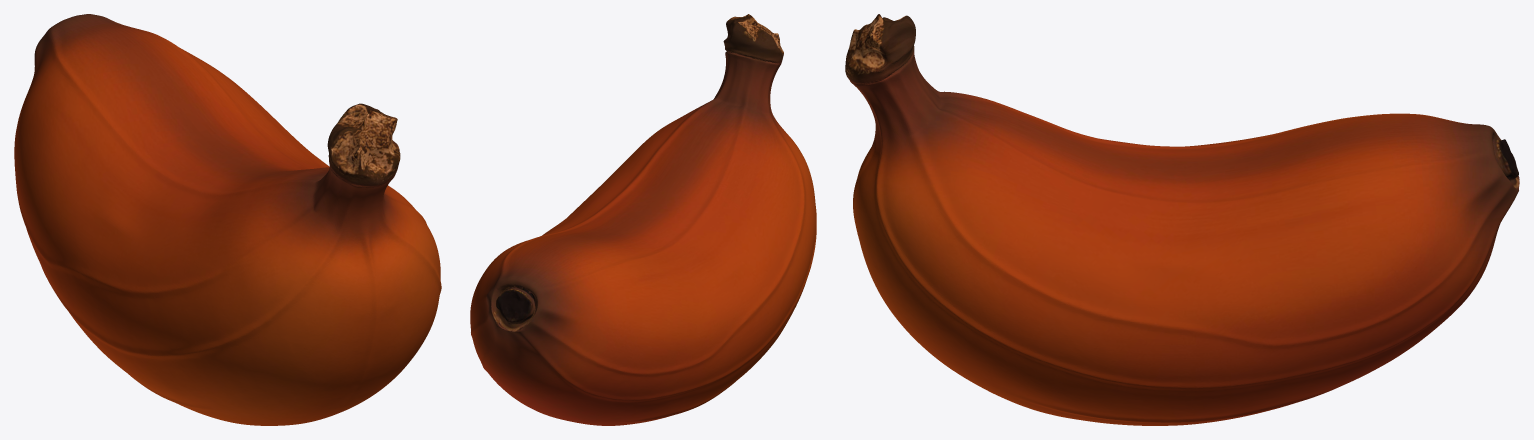
The model's file is redBanana.glb.
3 views of the same model, side by side, from view 1: azimuth 30°, elevation 25°; view 2: azimuth 150°, elevation 25°; view 3: azimuth 270°, elevation 25° (orthographic). The views are drawn at different scales.
Visible parts, largest first — view 1: tripo_node_b82eb54a-83ef-4168-adf3-9159b9bc1c81; view 2: tripo_node_b82eb54a-83ef-4168-adf3-9159b9bc1c81; view 3: tripo_node_b82eb54a-83ef-4168-adf3-9159b9bc1c81.
Boxes of the visible parts, x1,y1,x2,y2 form: tripo_node_b82eb54a-83ef-4168-adf3-9159b9bc1c81: [14, 14, 441, 425]; tripo_node_b82eb54a-83ef-4168-adf3-9159b9bc1c81: [470, 14, 816, 425]; tripo_node_b82eb54a-83ef-4168-adf3-9159b9bc1c81: [845, 14, 1519, 425].
Bounding box in the file's own units: 0.4969 × 0.6525 × 1.
Materials: 1 (1 with a texture image).
